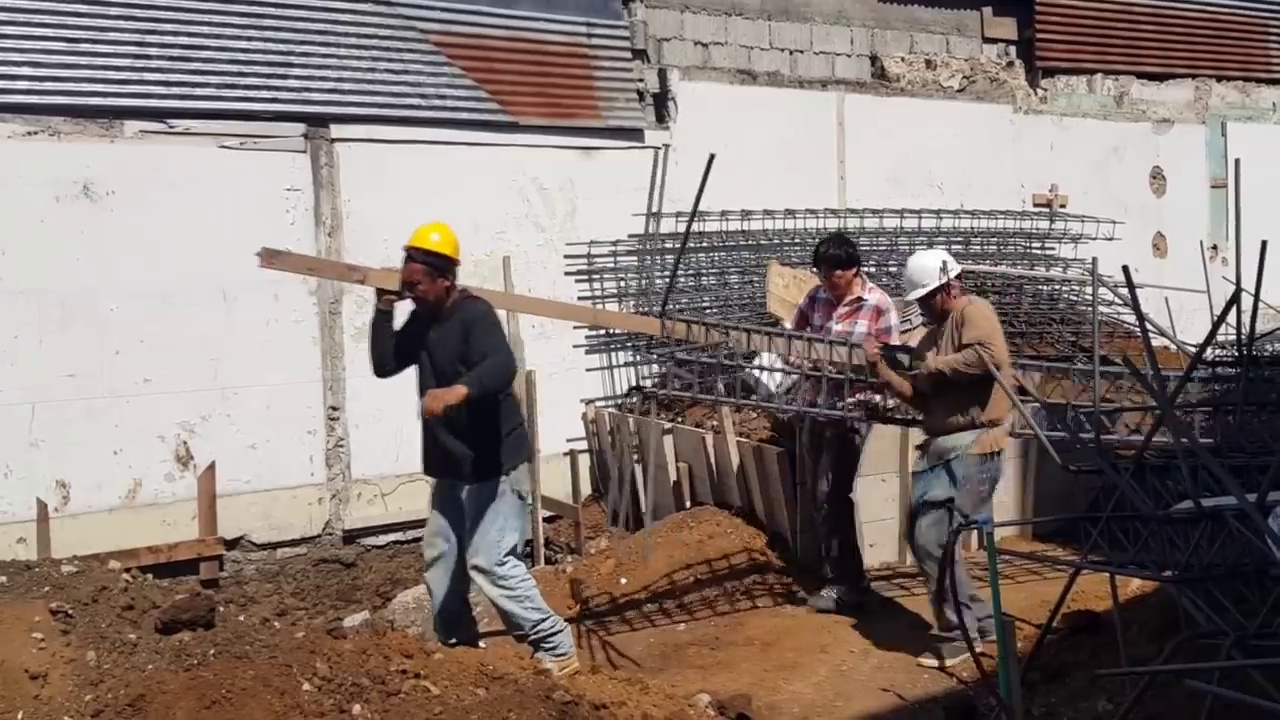helmet: (908, 245, 968, 302), (398, 222, 466, 267)
helmet-off: (814, 233, 867, 305)
helmet-on: (397, 224, 464, 312), (905, 246, 970, 327)
person: (382, 208, 537, 671), (868, 245, 1021, 652), (759, 220, 890, 615)
